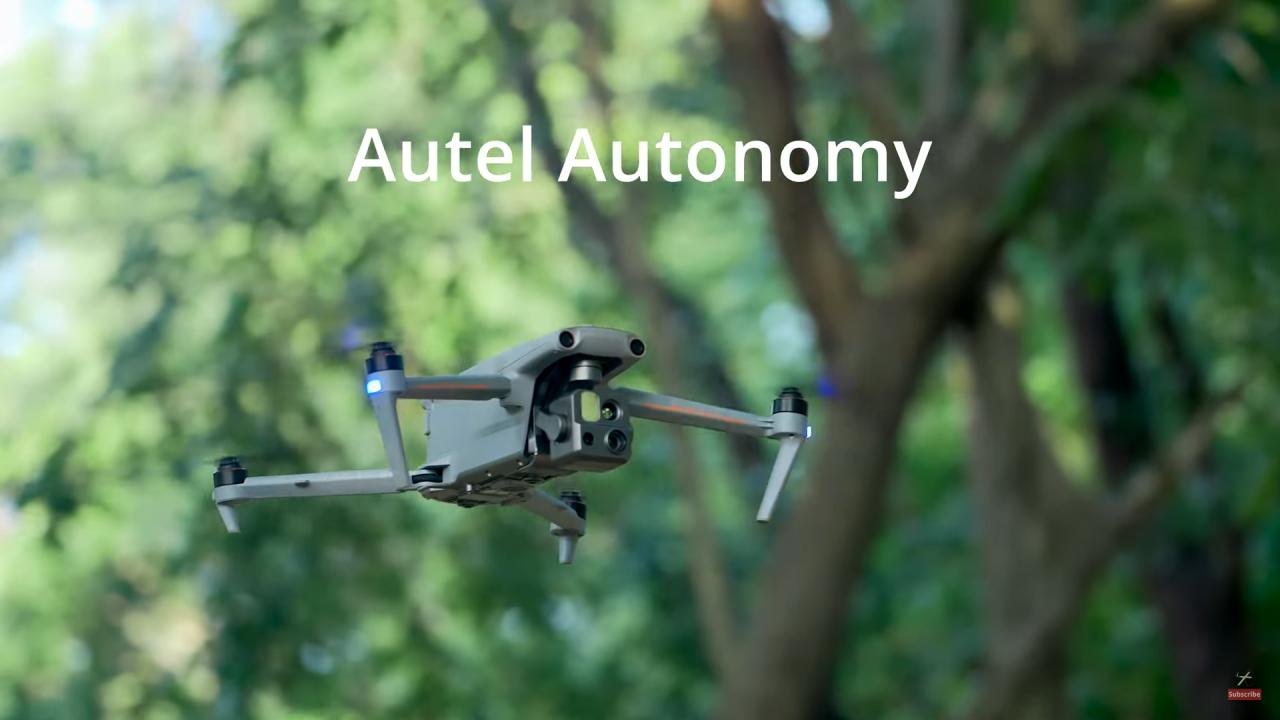Drone: (154, 300, 958, 588)
